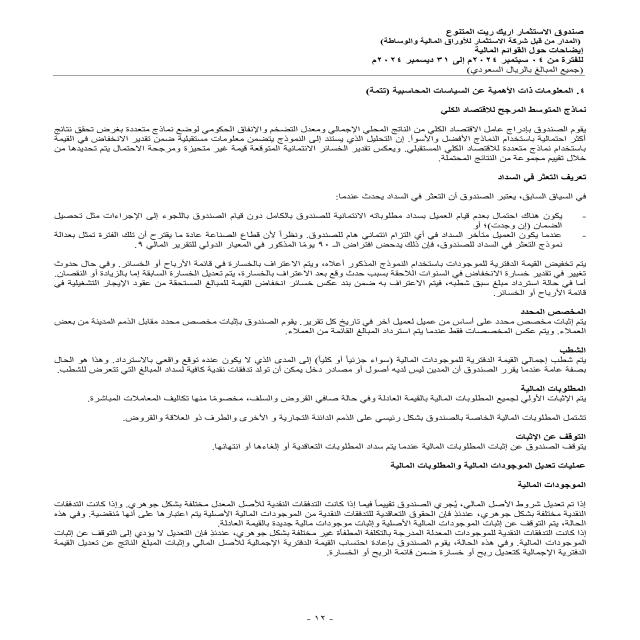notes: (462, 46, 590, 54)
text: (22, 80, 600, 577)
